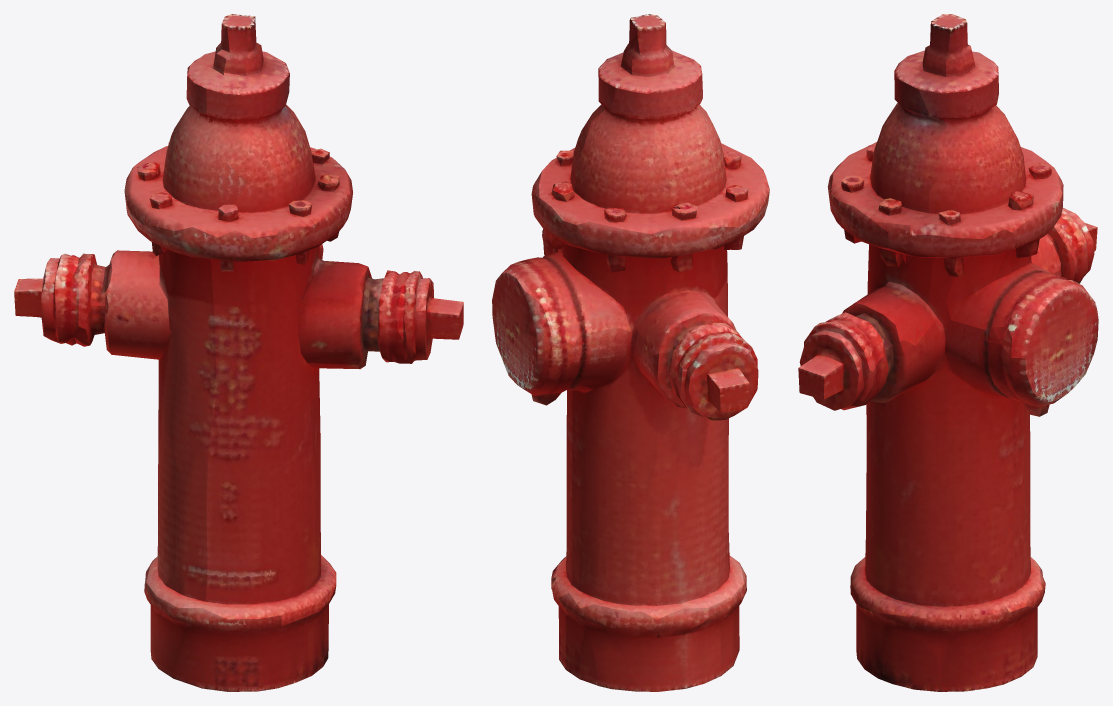
3 renders of one model, left to right at view 1: azimuth 30°, elevation 25°; view 2: azimuth 150°, elevation 25°; view 3: azimuth 270°, elevation 25°, orthographic.
Visible parts, largest first — view 1: hydrant-red; view 2: hydrant-red; view 3: hydrant-red.
Boxes of the visible parts, left/top/right/bottom form: hydrant-red: left=14, top=14, right=463, bottom=691; hydrant-red: left=492, top=14, right=769, bottom=691; hydrant-red: left=798, top=14, right=1098, bottom=691.
Size of the model in its own units: 0.4317 by 0.8 by 0.3439.
Materials: 1 (1 with a texture image).
